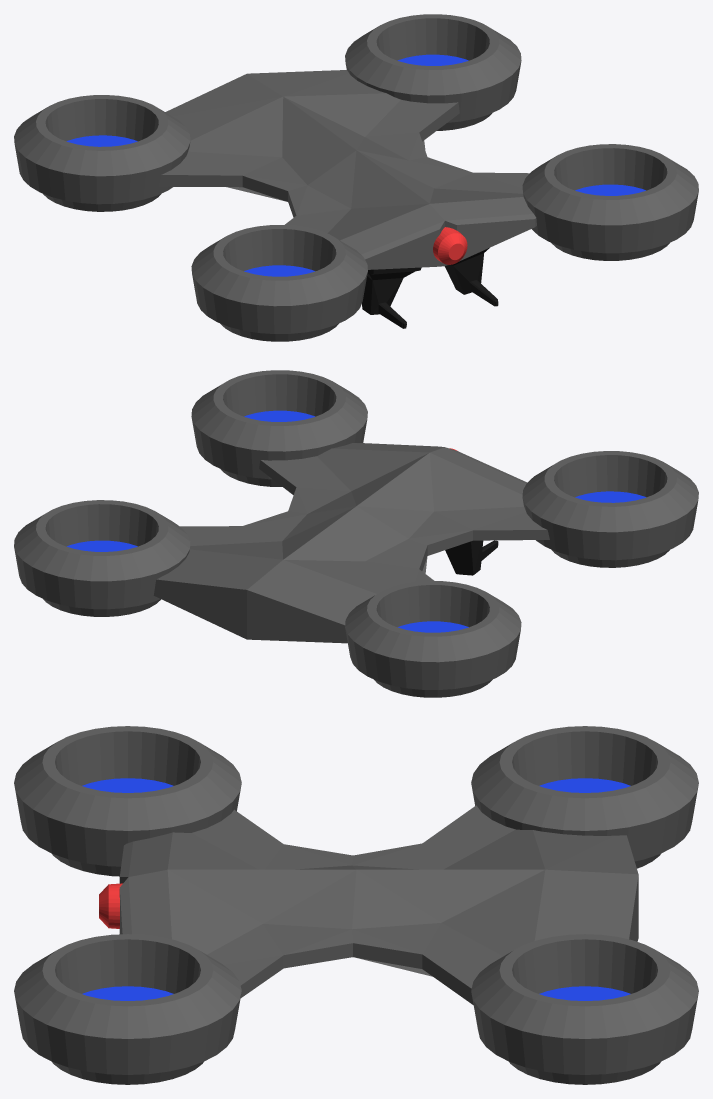
The model's file is Drone1.dae.
3 views of the same model, one above another, from view 1: azimuth 30°, elevation 25°; view 2: azimuth 150°, elevation 25°; view 3: azimuth 270°, elevation 25° (orthographic). The views are drawn at different scales.
Visible parts, largest first — view 1: Cube, Cylinder.002, Cylinder.003, Cylinder, Cylinder.001, Cube.002, Cube.001, Cylinder.004; view 2: Cube, Cylinder, Cylinder.002, Cylinder.001, Cylinder.003, Cube.002; view 3: Cube, Cylinder.003, Cylinder.001, Cylinder.002, Cylinder, Cylinder.004.
Part boxes in pixels (bbox=[...]): Cube: bbox=[158, 70, 536, 269]; Cylinder.002: bbox=[191, 225, 367, 341]; Cylinder.003: bbox=[522, 144, 698, 260]; Cylinder: bbox=[14, 95, 190, 211]; Cylinder.001: bbox=[345, 14, 521, 130]; Cube.002: bbox=[362, 267, 421, 328]; Cube.001: bbox=[444, 248, 498, 306]; Cylinder.004: bbox=[433, 227, 467, 264]; Cube: bbox=[153, 443, 549, 643]; Cylinder: bbox=[345, 581, 521, 697]; Cylinder.002: bbox=[522, 451, 698, 567]; Cylinder.001: bbox=[14, 500, 190, 616]; Cylinder.003: bbox=[191, 370, 367, 486]; Cube.002: bbox=[445, 540, 498, 575]; Cube: bbox=[119, 805, 638, 1004]; Cylinder.003: bbox=[14, 934, 241, 1084]; Cylinder.001: bbox=[471, 934, 698, 1084]; Cylinder.002: bbox=[14, 726, 241, 876]; Cylinder: bbox=[471, 726, 698, 868]; Cylinder.004: bbox=[99, 883, 122, 928].
Bounding box in the file's own units: 2.96 × 2.81 × 0.6265.
